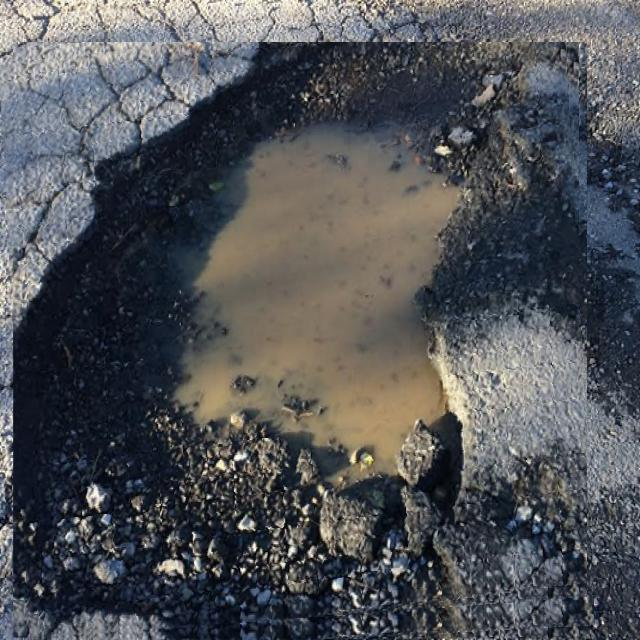Pothole: (6, 42, 587, 640)
